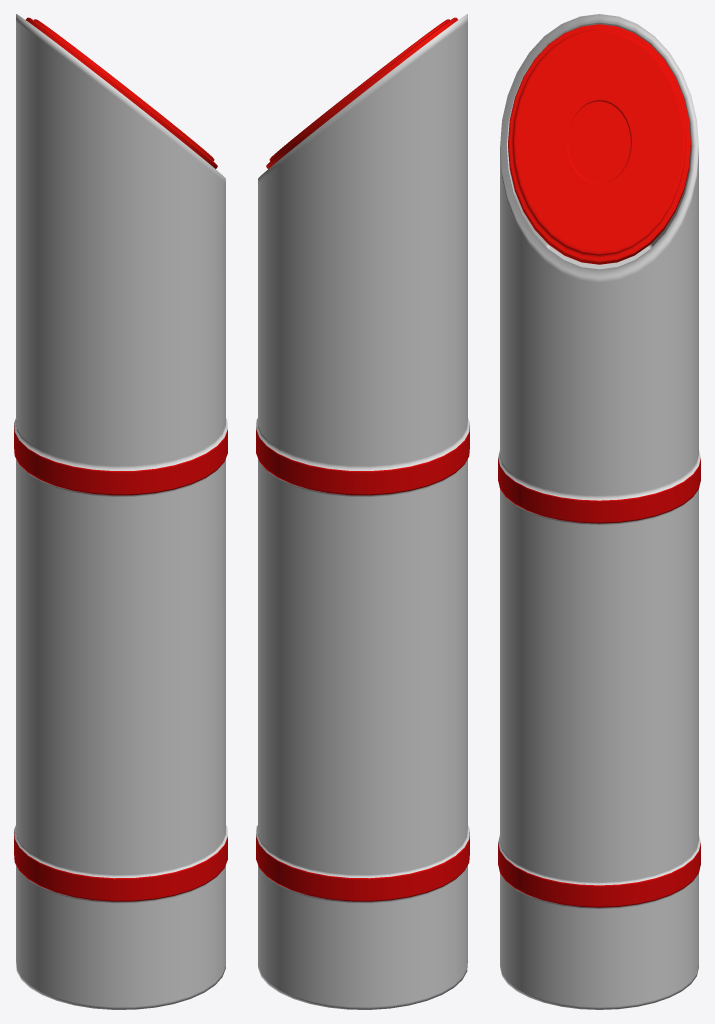
Rendered from HandButton.fbx.
3 views of the same model, side by side, from view 1: azimuth 30°, elevation 25°; view 2: azimuth 150°, elevation 25°; view 3: azimuth 270°, elevation 25° (orthographic). The views are drawn at different scales.
Parts seen in each view (by area): view 1: Cylinder, Cylinder.001; view 2: Cylinder, Cylinder.001; view 3: Cylinder, Cylinder.001.
Part boxes in pixels (x1,y1,x2,y2): Cylinder: [14, 14, 227, 1009]; Cylinder.001: [26, 17, 217, 168]; Cylinder: [256, 14, 469, 1009]; Cylinder.001: [266, 17, 457, 168]; Cylinder: [498, 14, 700, 1009]; Cylinder.001: [508, 24, 690, 264].
Bounding box in the file's own units: 0.3876 × 0.3876 × 1.92.
